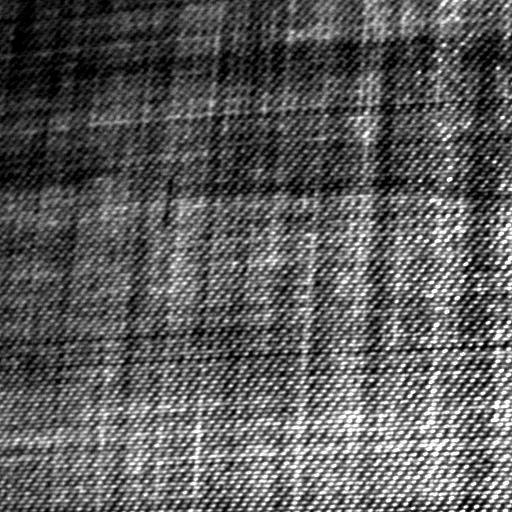fabric_perfect: (0, 2, 510, 508)
